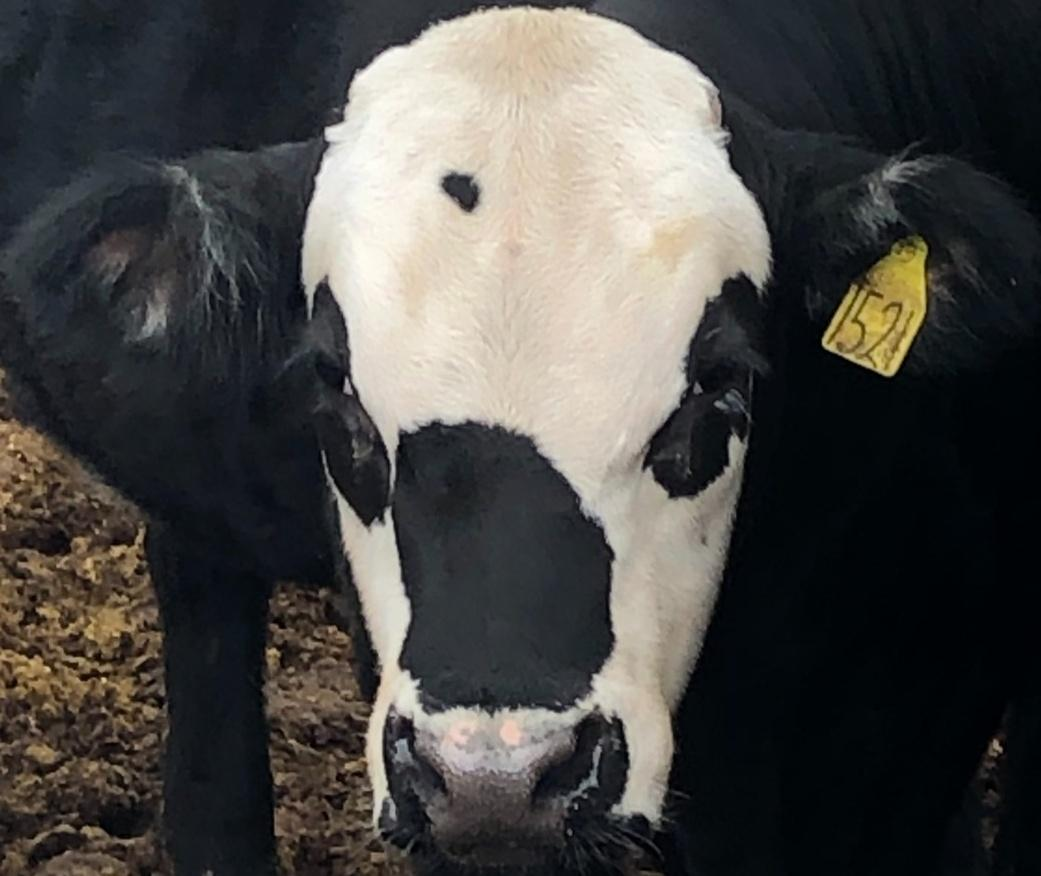muzzles: (356, 690, 685, 873)
